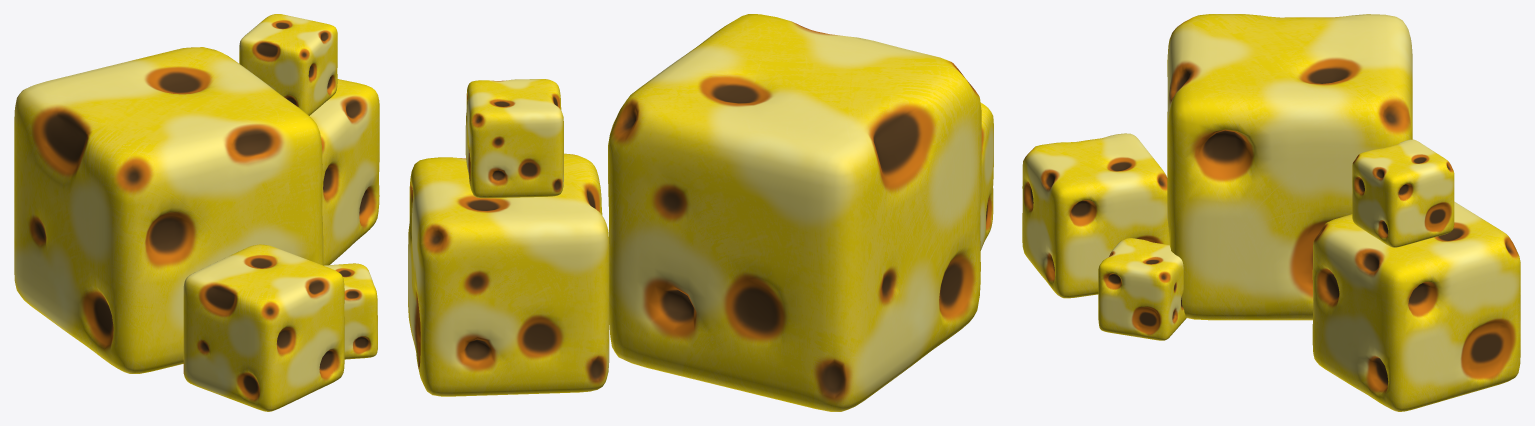
Rendered from cheesePile.fbx.
The picture shows the model from 3 angles, left to right: view 1: azimuth 30°, elevation 25°; view 2: azimuth 150°, elevation 25°; view 3: azimuth 270°, elevation 25°; orthographic projection. The views are drawn at different scales.
Visible parts, largest first — view 1: cheese, cheese1, cheese3, cheese4, cheese2; view 2: cheese, cheese3, cheese4, cheese1; view 3: cheese, cheese3, cheese1, cheese4, cheese2.
Boxes of the visible parts, x1,y1,x2,y2 form: cheese: (14, 47, 323, 373); cheese1: (183, 244, 344, 411); cheese3: (309, 79, 379, 265); cheese4: (239, 14, 337, 115); cheese2: (324, 263, 377, 359); cheese: (608, 14, 981, 411); cheese3: (408, 153, 609, 396); cheese4: (465, 79, 563, 198); cheese1: (980, 103, 993, 250); cheese: (1167, 14, 1412, 320); cheese3: (1312, 201, 1520, 411); cheese1: (1022, 133, 1169, 298); cheese4: (1352, 139, 1454, 247); cheese2: (1098, 238, 1186, 340).
Bounding box in the file's own units: 17.54 × 10.47 × 20.31.
Materials: 1 (1 with a texture image).
